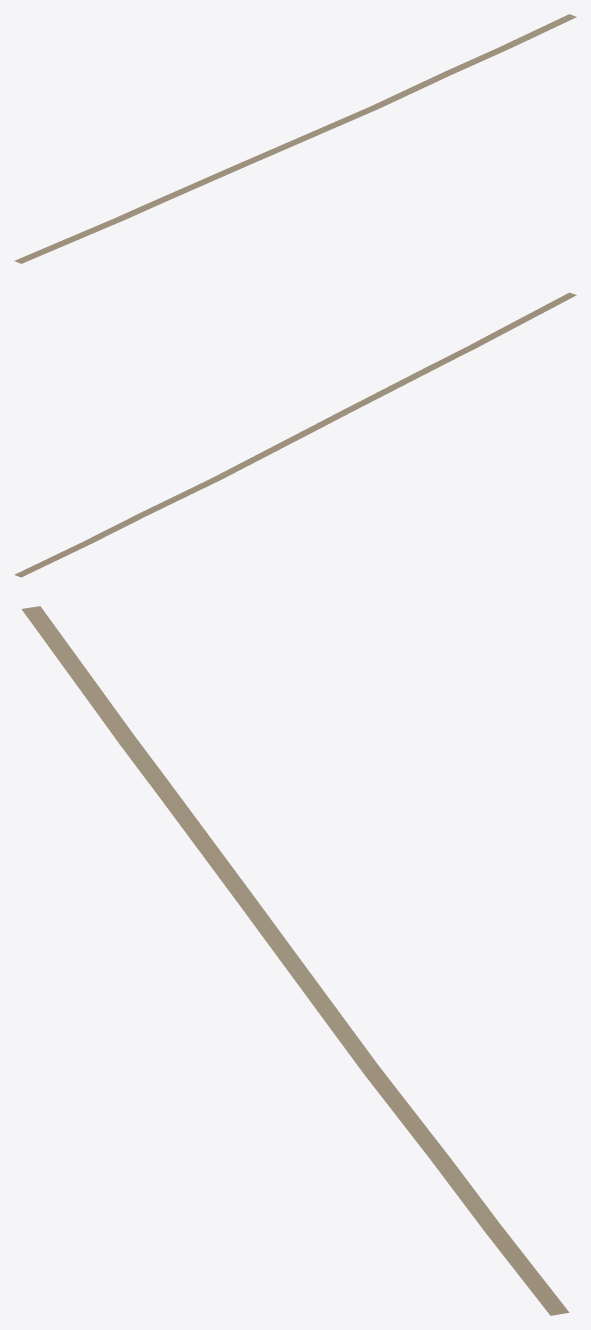
The model's file is farm_16_5_track.glb.
3 renders of one model, top to bottom at view 1: azimuth 30°, elevation 25°; view 2: azimuth 210°, elevation 25°; view 3: azimuth 270°, elevation 25°, orthographic. The views are drawn at different scales.
Visible parts, largest first — view 1: geometry_0; view 2: geometry_0; view 3: geometry_0.
Boxes of the visible parts, box(x1,y1,x2,y2) form: geometry_0: box(14, 14, 576, 263); geometry_0: box(14, 292, 576, 577); geometry_0: box(21, 606, 569, 1315).
Bounding box in the file's own units: 261 × 6.49 × 89.83.
